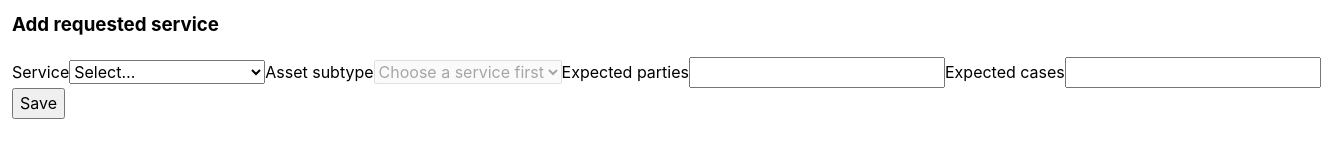
Test case: adding a requested service › lists the chosen service’s subtypes
Select "Valuation of asset" in the dropdown labelled "Service". click: [167, 72]
box: [69,60,265,84]
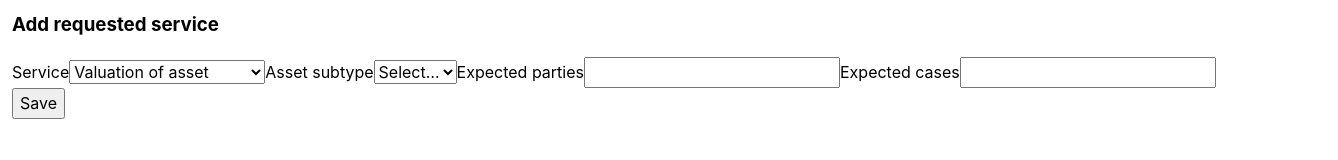
Check: the dropdown labelled "Asset subtype" is enabled, box [374,60,457,84]
